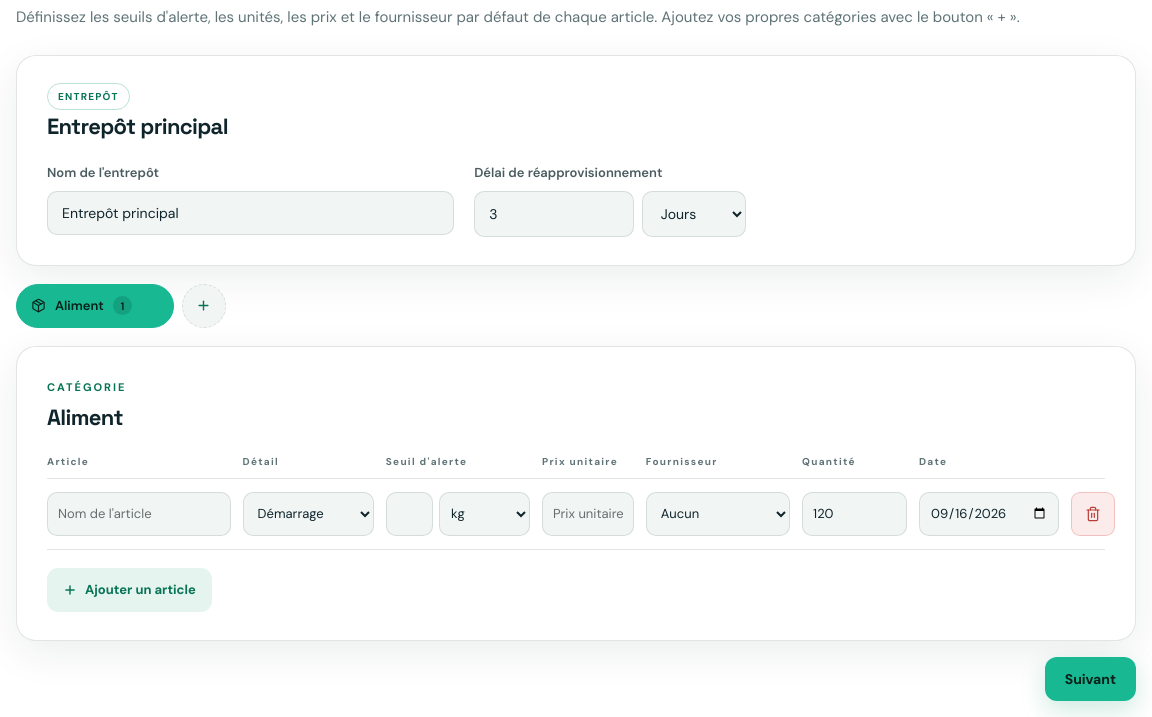
Test case: StockParametersForm — a rejected save › the onboarding step says why it did not advance
(page scrolled)
Click the button "Suivant". click: (1090, 679)
box: [1045,657,1136,701]
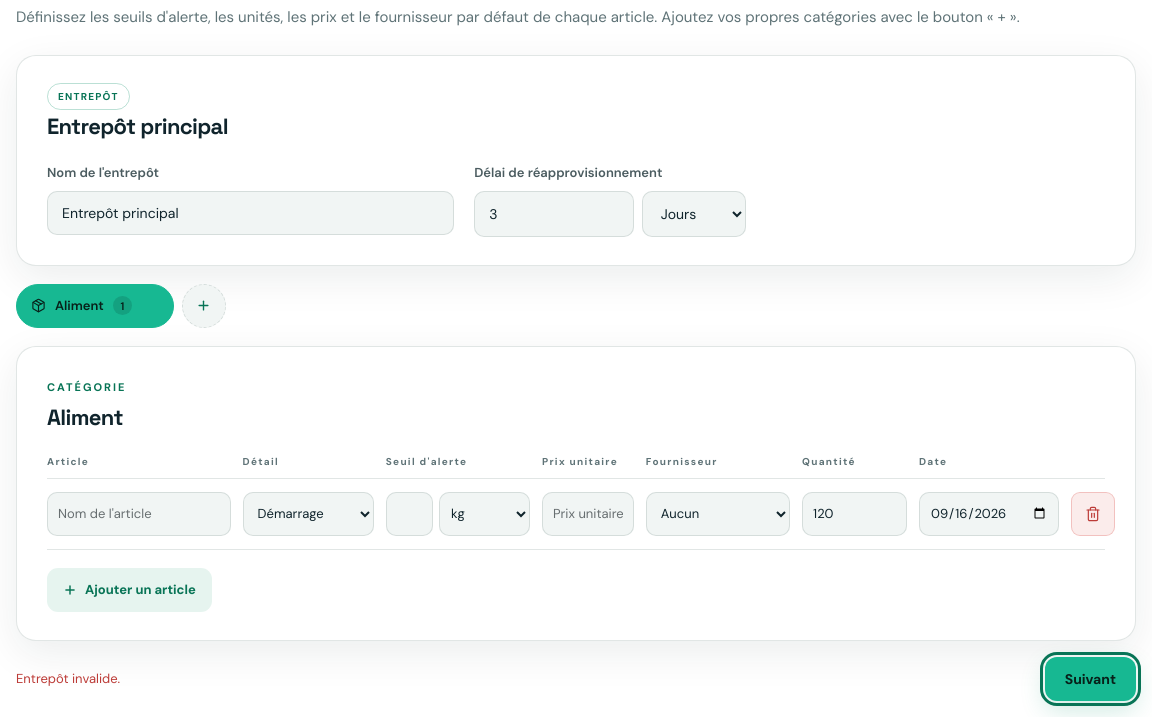
Now the message reads "Entrepôt invalide.", box [16,670,120,687]
